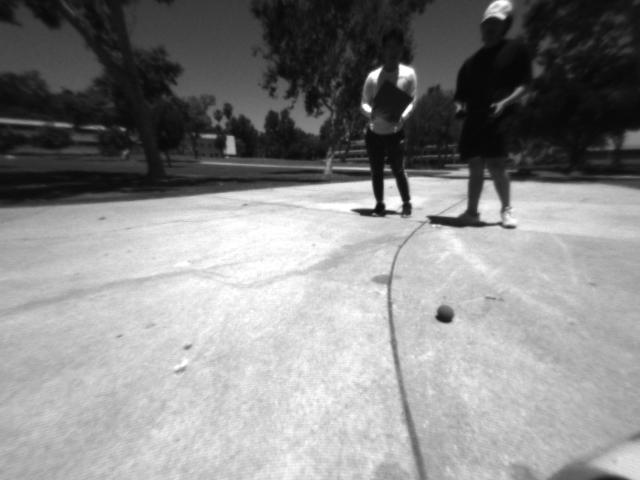dogtoy: (429, 299, 461, 327)
